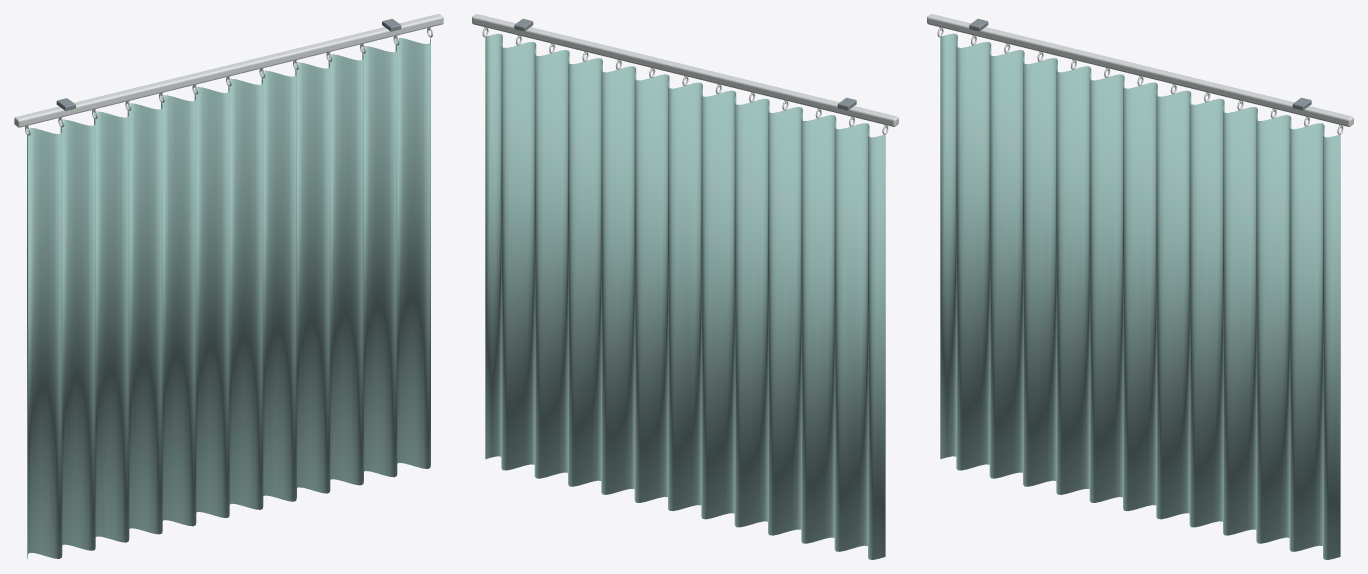
File: privacy-curtain-and-ceiling-track.glb
3 renders of one model, left to right at view 1: azimuth 30°, elevation 25°; view 2: azimuth 150°, elevation 25°; view 3: azimuth 330°, elevation 25°, orthographic.
Visible parts, largest first — view 1: Pleated privacy textile, Ceiling curtain track; view 2: Pleated privacy textile, Ceiling curtain track; view 3: Pleated privacy textile, Ceiling curtain track.
Part boxes in pixels (x1,y1,x2,y2): Pleated privacy textile: (27,37,430,559); Ceiling curtain track: (14,14,443,127); Pleated privacy textile: (485,33,885,559); Ceiling curtain track: (472,14,898,126); Pleated privacy textile: (940,33,1340,559); Ceiling curtain track: (927,14,1353,126).
Bounding box in the file's own units: 2.33 × 2.34 × 0.1317.
Materials: 3 (3 with a texture image).
